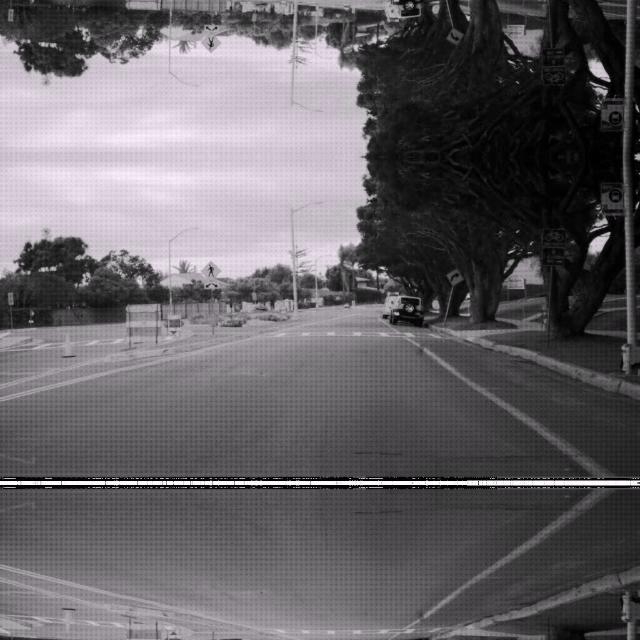pedestrianCrossing: (200, 258, 220, 280), (200, 32, 220, 54)
